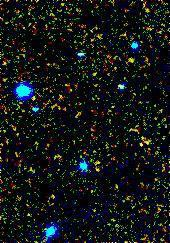star: (118, 43, 148, 73)
